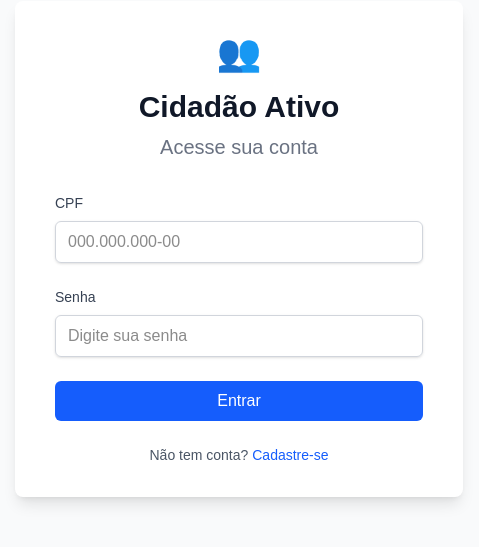
it: Login Component › Form Validation › should show error for invalid CPF
The image size is (479, 547).
In the field labelled "CPF": (239, 242) [55,221,423,263], type "12345678900"
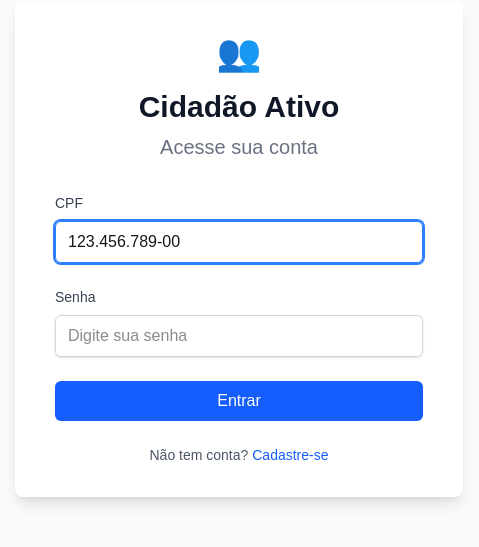
Click the button "Entrar": (239, 401) [55,381,423,421]
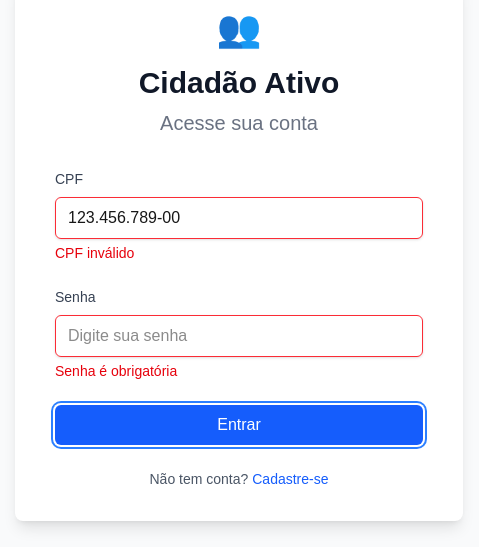
Expected: the text "CPF inválido" is shown, [55,245,134,261]
